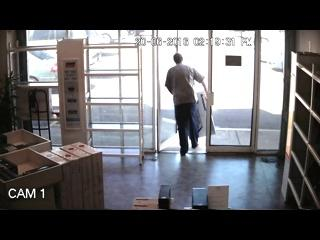shoplifting: (164, 52, 208, 156)
